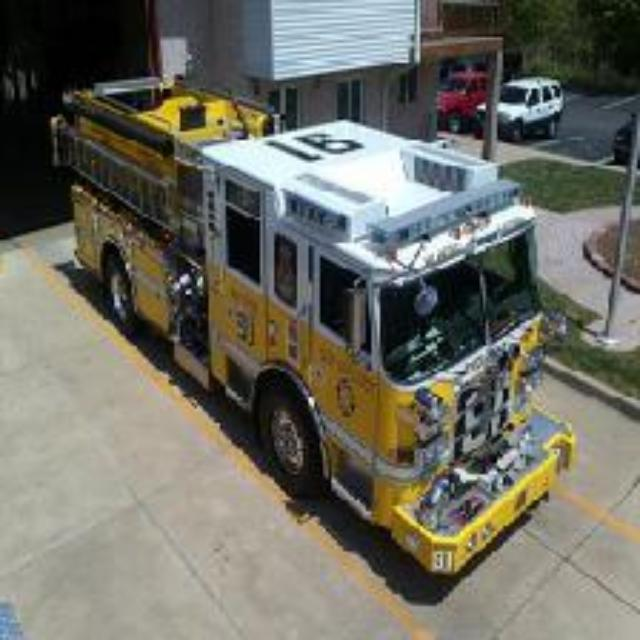emergency: (57, 69, 577, 574)
